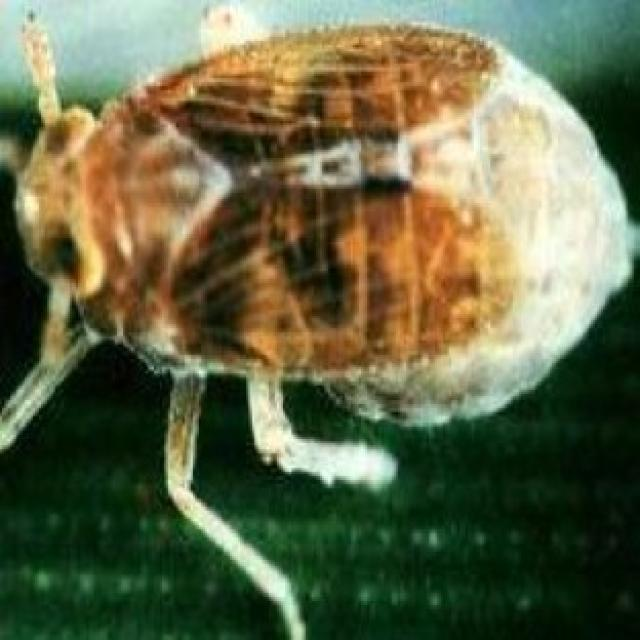brown plant hopper: (0, 6, 634, 549)
